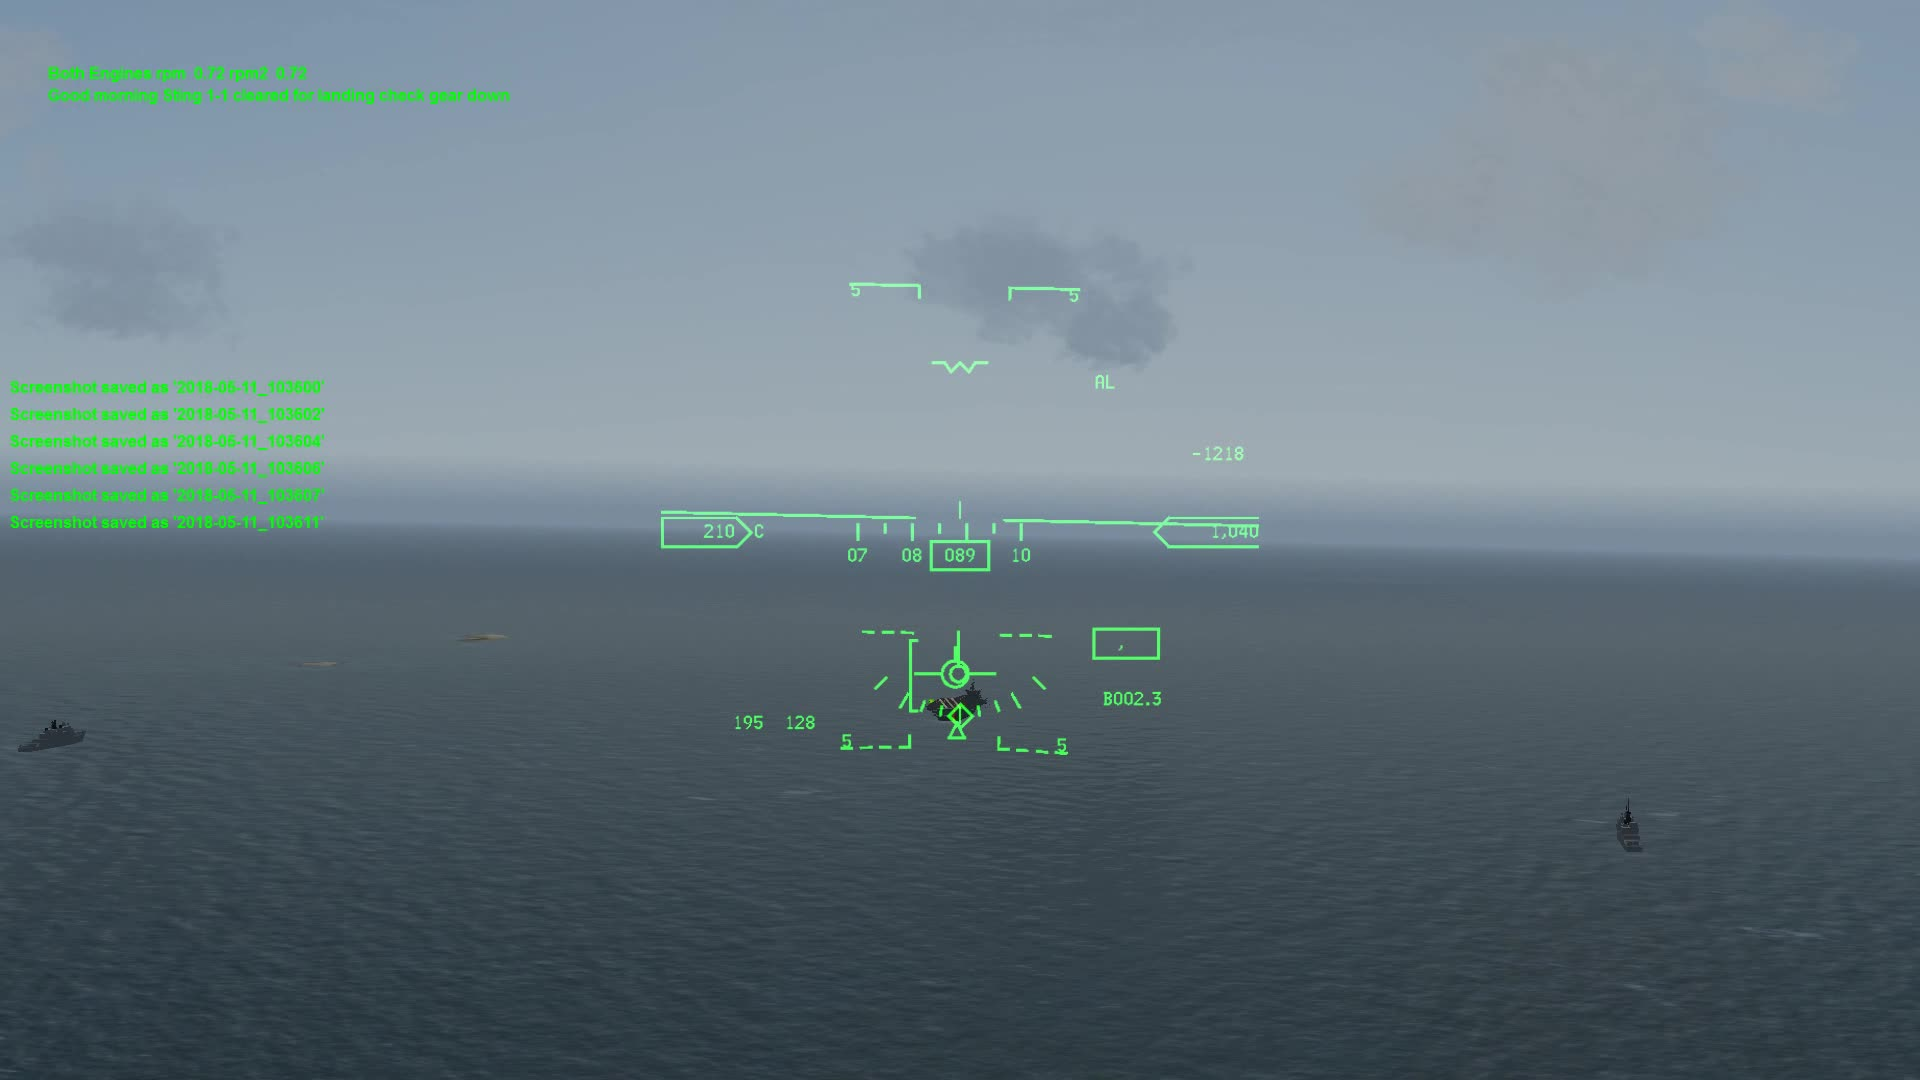speed vector: (916, 640, 1000, 688)
